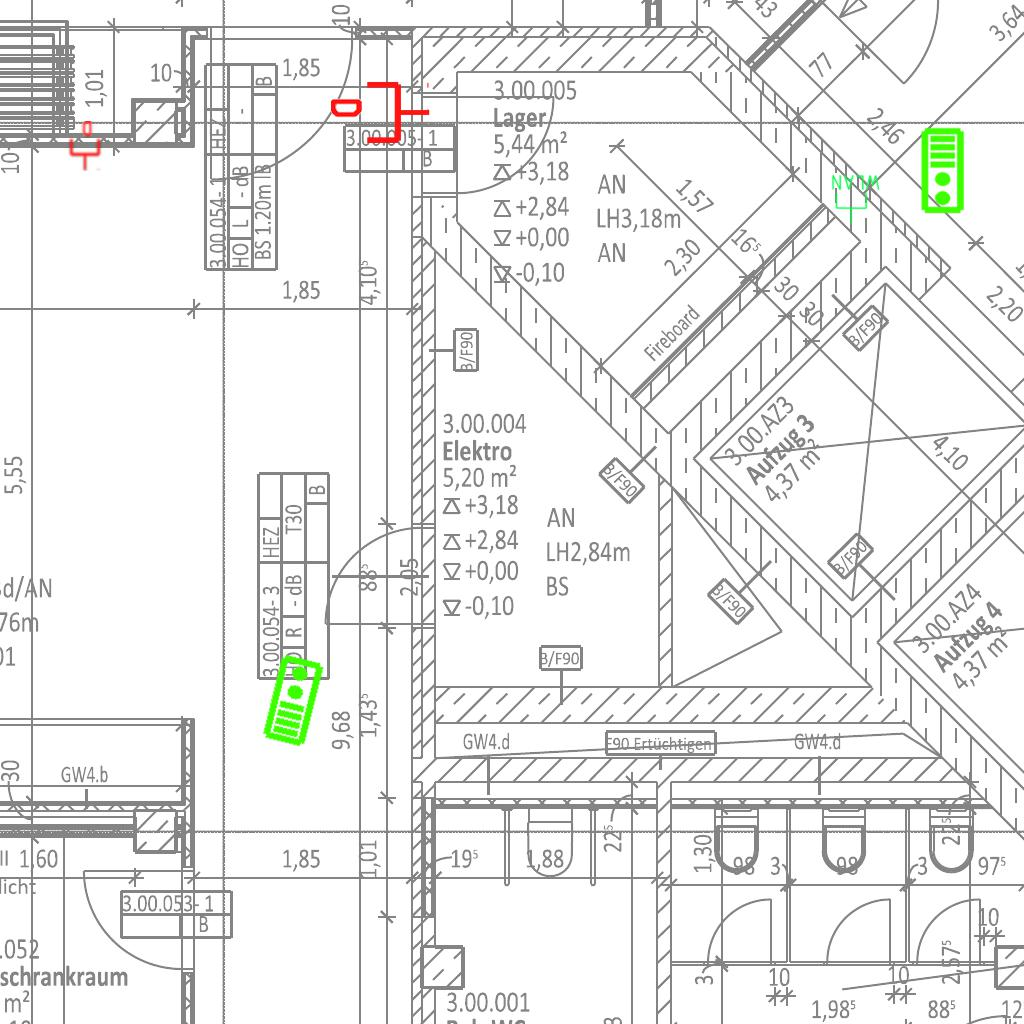Datenanschluss_einfach: (331, 78, 431, 147), (68, 121, 102, 171)
Gegensprechanlage_mit_Video: (259, 651, 326, 749), (920, 127, 967, 215)
WLAN: (830, 173, 882, 225)
